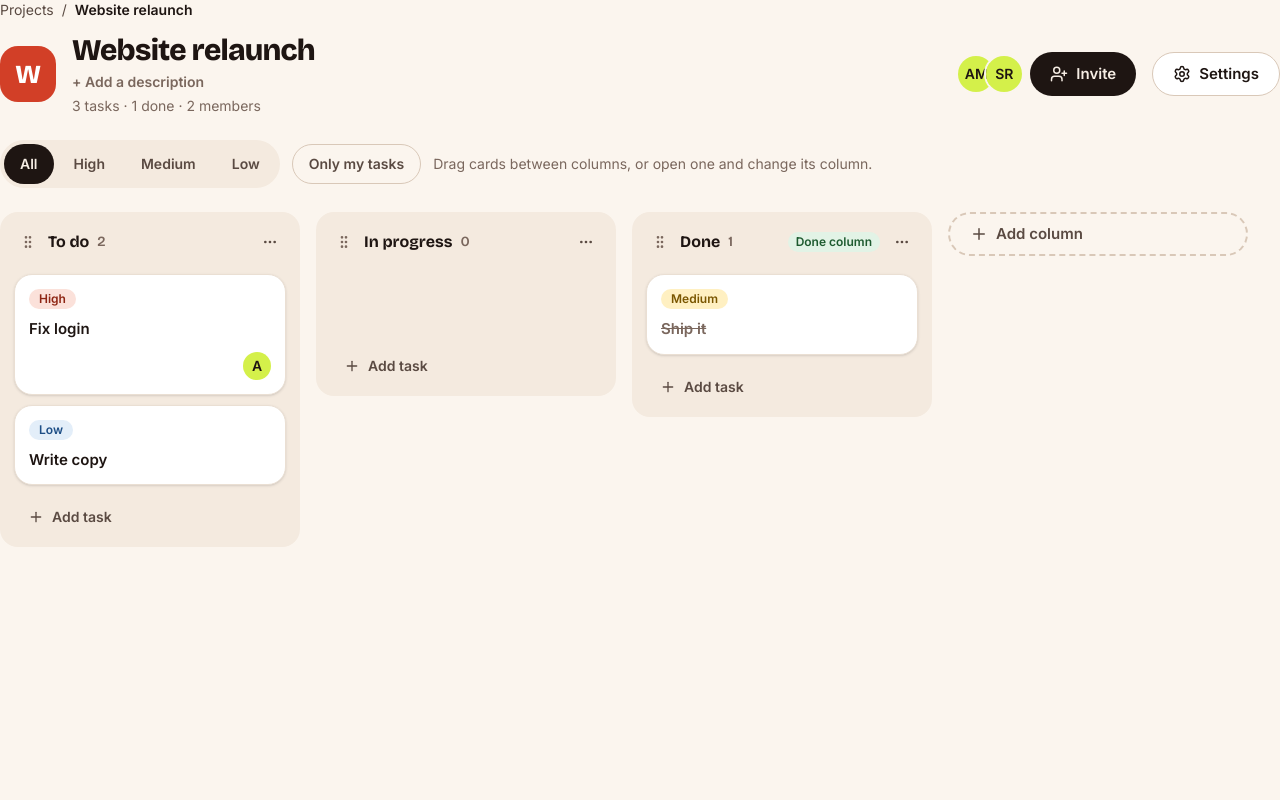
Test: BoardContent › gives the owner an Invite button that opens the invite form in a dialog
Click the button "Invite": click(1083, 74) [1030,52,1136,96]
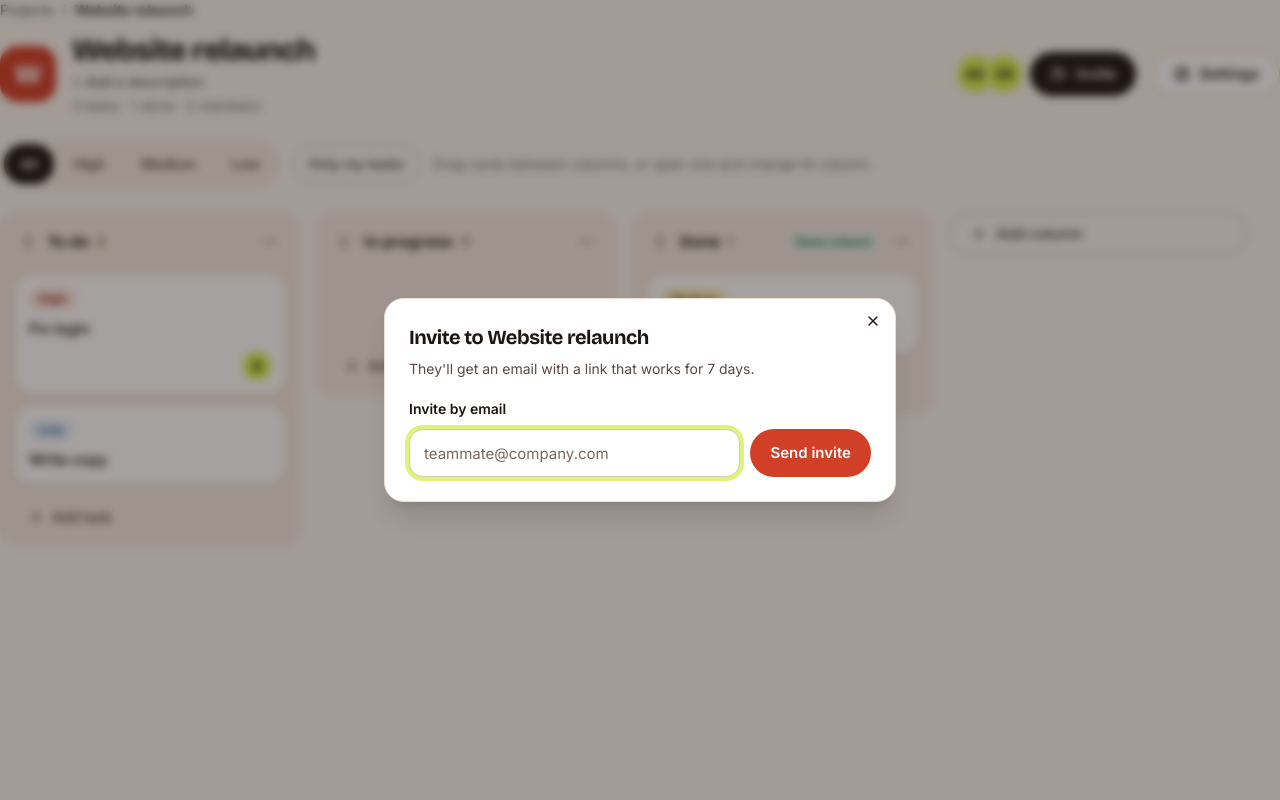
In the field labelled "Invite by email": (575, 453) [409,429,740,477], type "ada@team.dev"
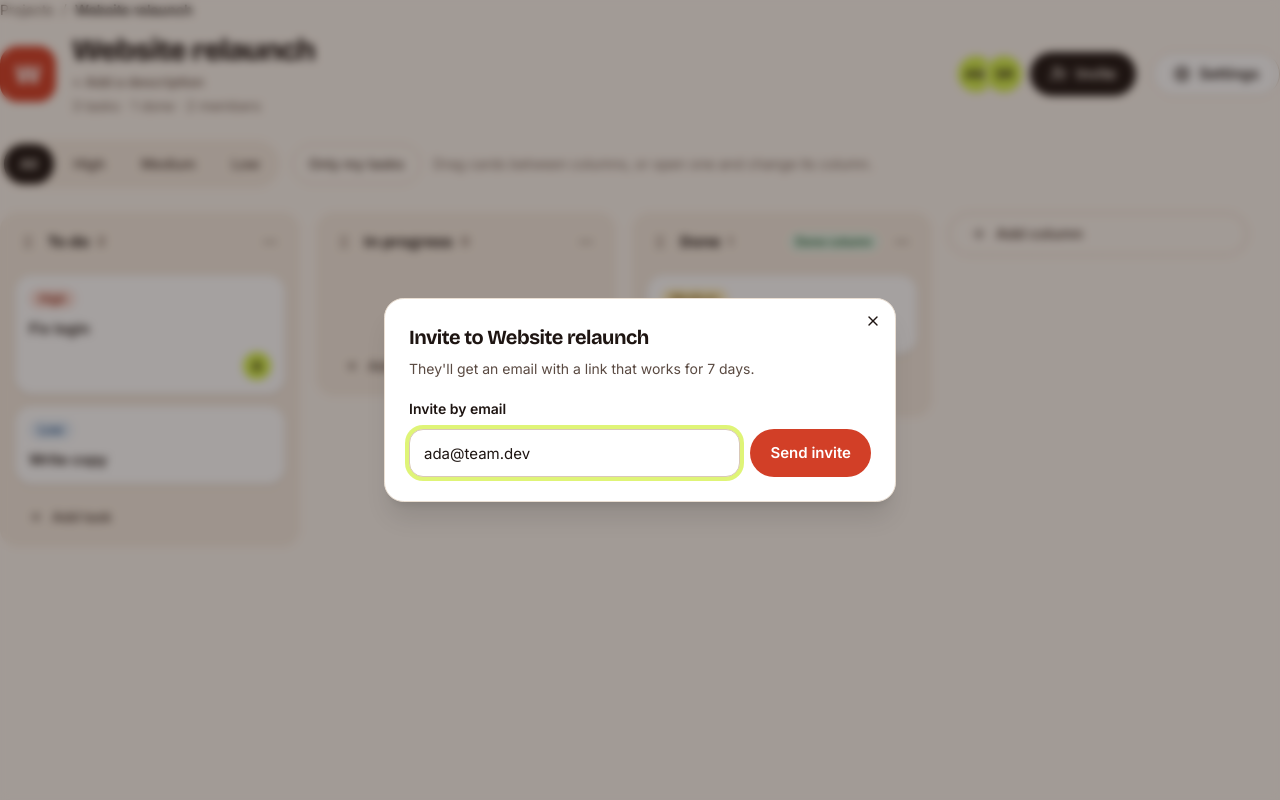
Click the button "Send invite": click(811, 453) [750,429,871,477]
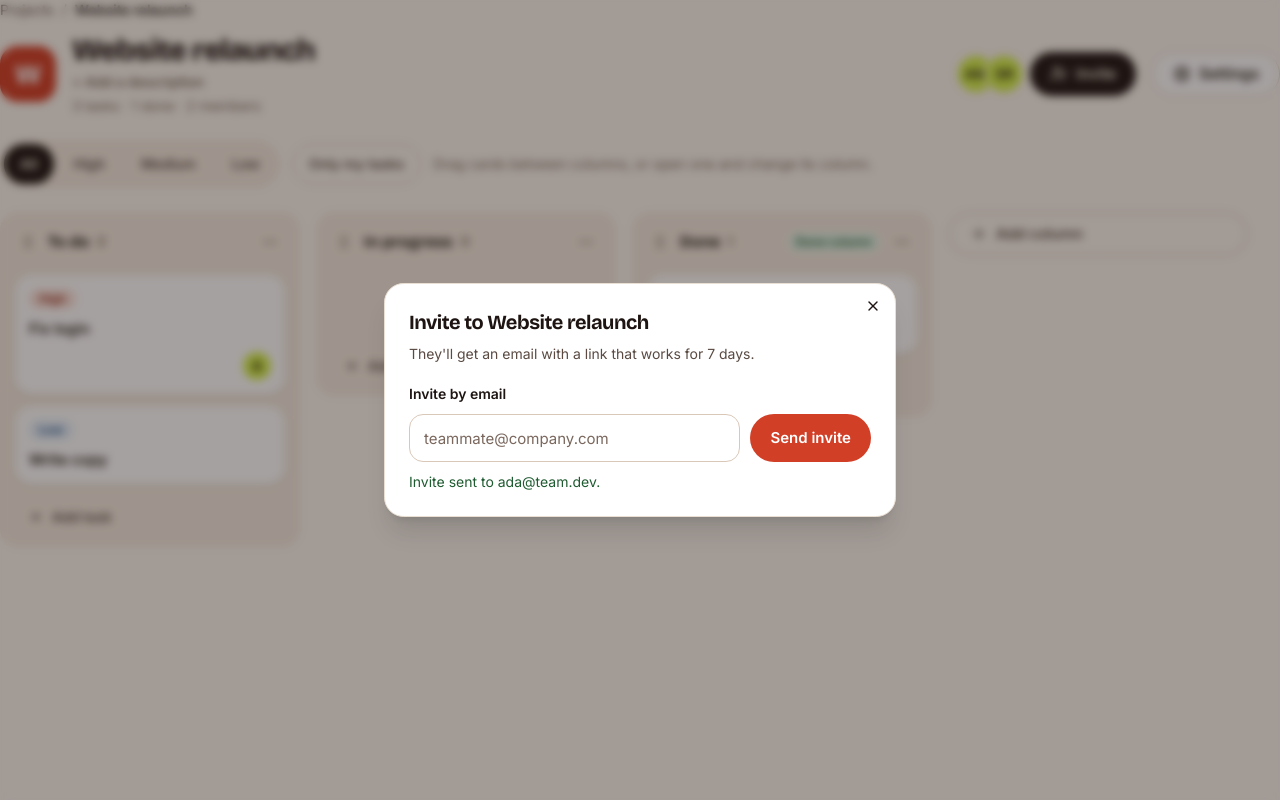
Result: the text "Invite sent to ada@team.dev." is shown at [409,473,600,490]
